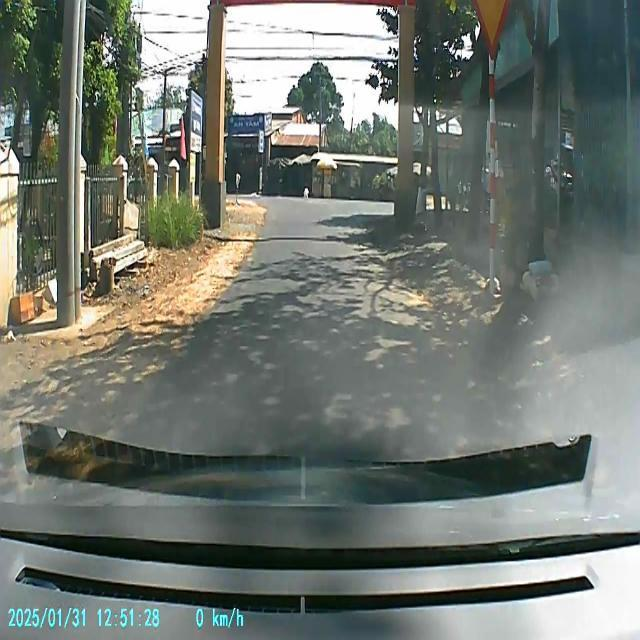208-giao-nhau-voi-duong-uu-tien: (472, 0, 511, 60)
